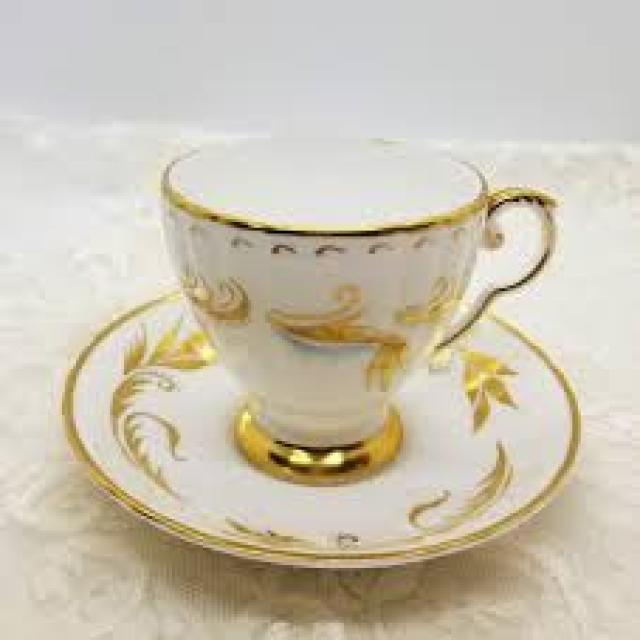taza: (143, 119, 570, 458)
